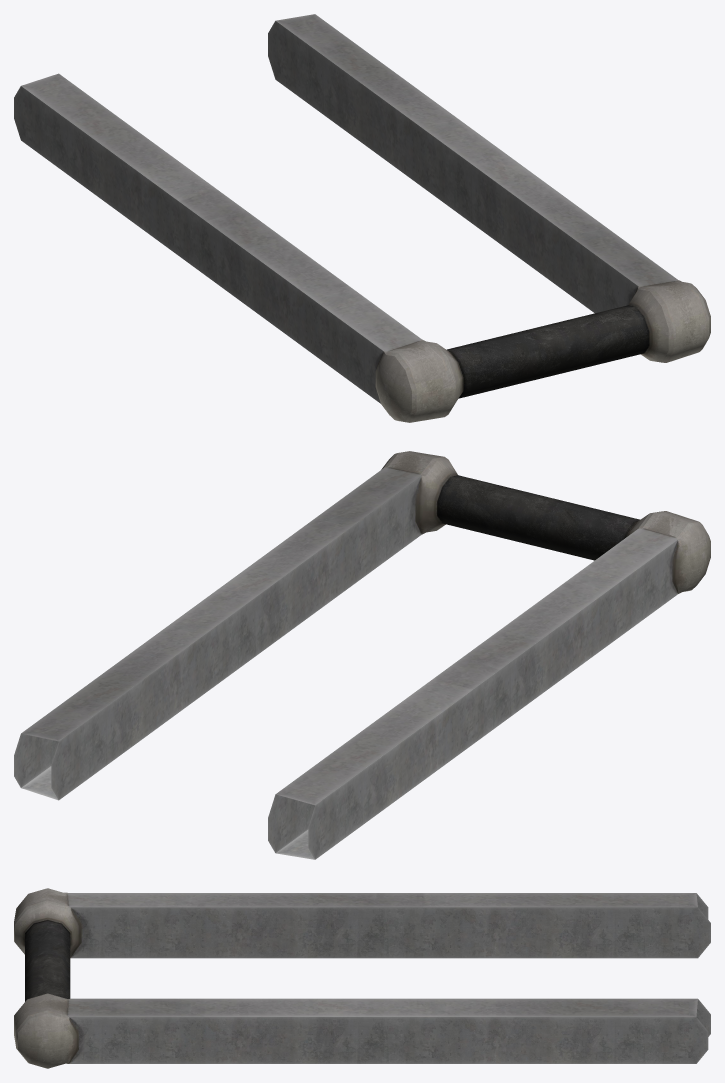
File: KDK_Map03_Lever.fbx
3 views of the same model, one above another, from view 1: azimuth 30°, elevation 25°; view 2: azimuth 150°, elevation 25°; view 3: azimuth 270°, elevation 25° (orthographic). The views are drawn at different scales.
Visible parts, largest first — view 1: KDK_Map03_Gas_Lever; view 2: KDK_Map03_Gas_Lever; view 3: KDK_Map03_Gas_Lever.
Part boxes in pixels (x1,y1,x2,y2): KDK_Map03_Gas_Lever: [14, 14, 710, 422]; KDK_Map03_Gas_Lever: [14, 451, 710, 859]; KDK_Map03_Gas_Lever: [14, 888, 710, 1068].
Size of the model in its own units: 29.52 by 6.41 by 64.51.
